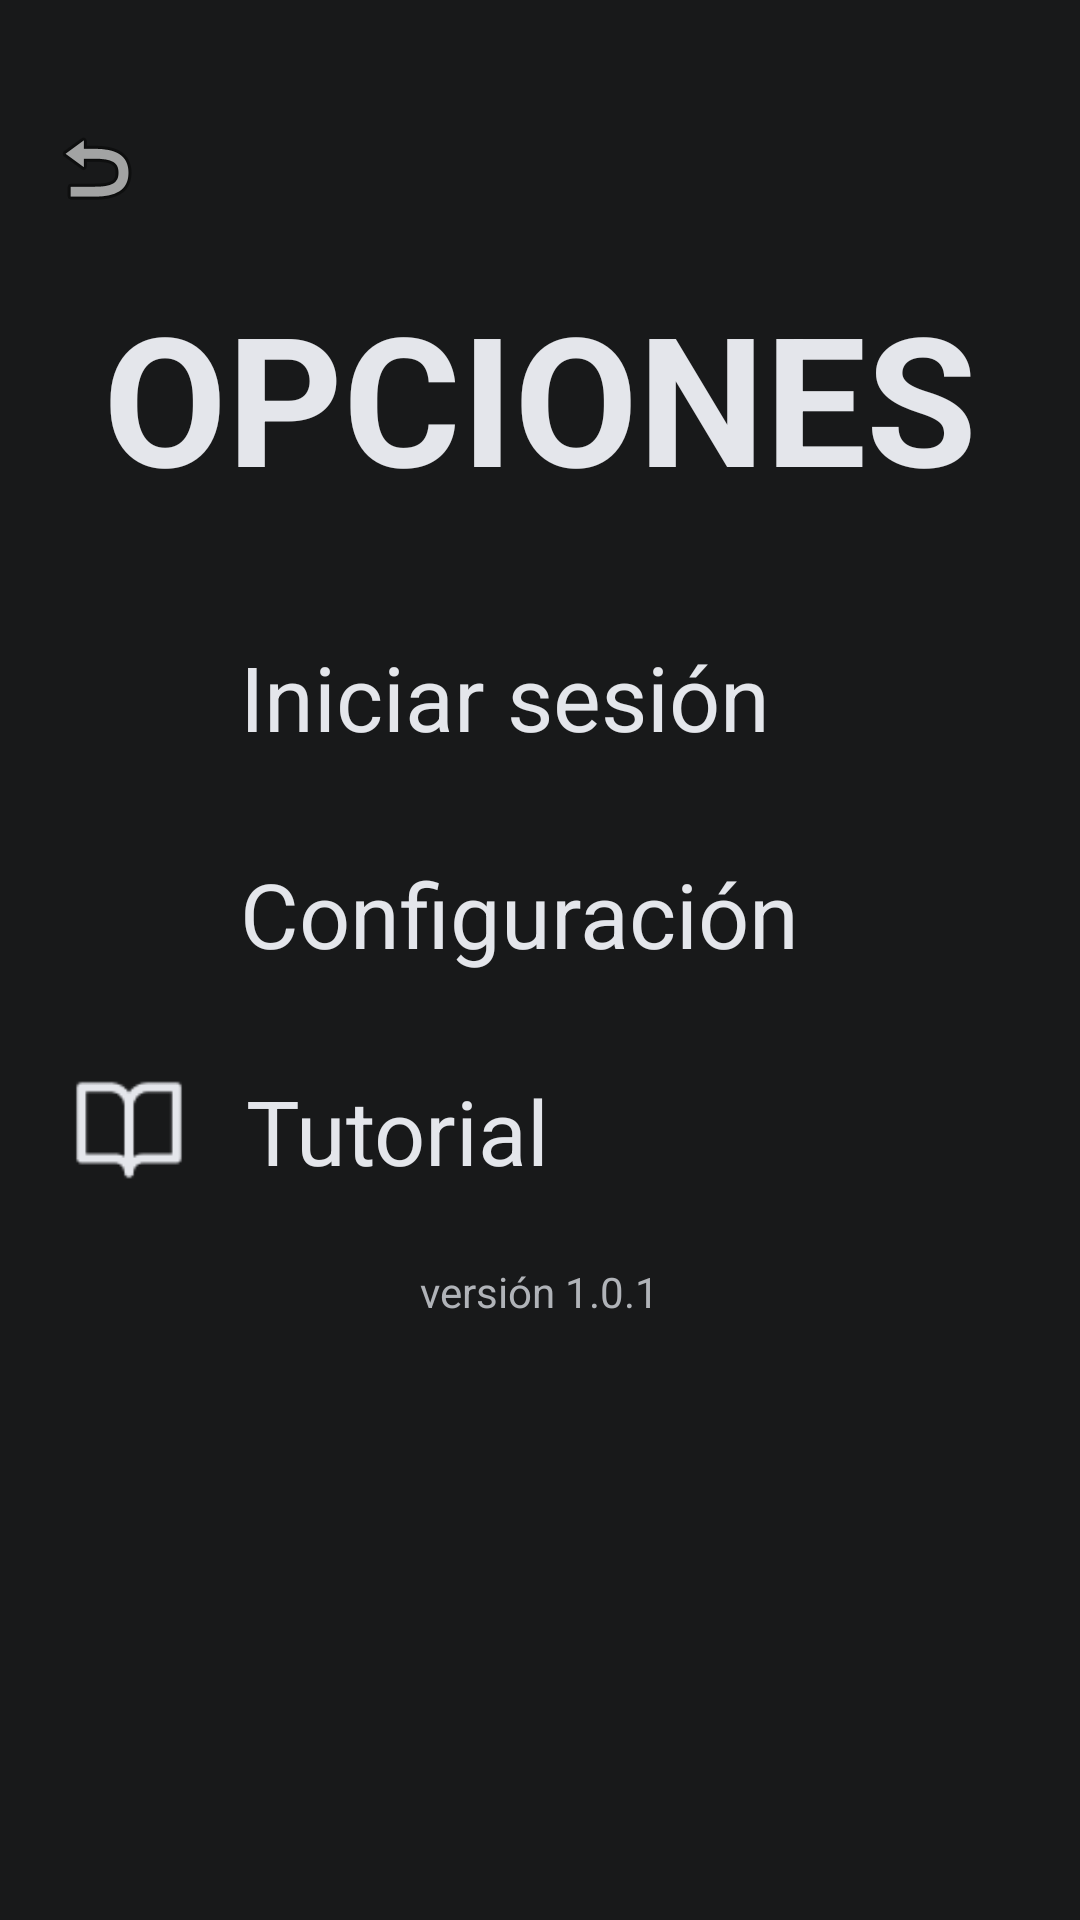

Icon bounding boxes for this 1080x1920 phone screenshot, format (x1, y1, x2, y2):
libro: (76, 1081, 182, 1179)
revert: (66, 140, 129, 197)
